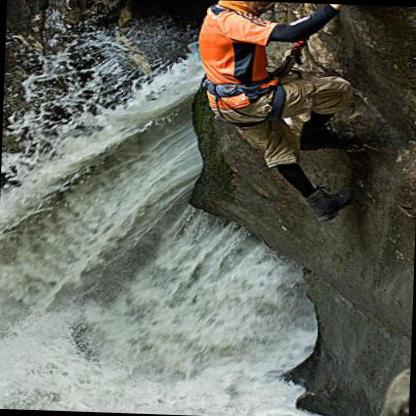bee: (214, 0, 300, 21)
